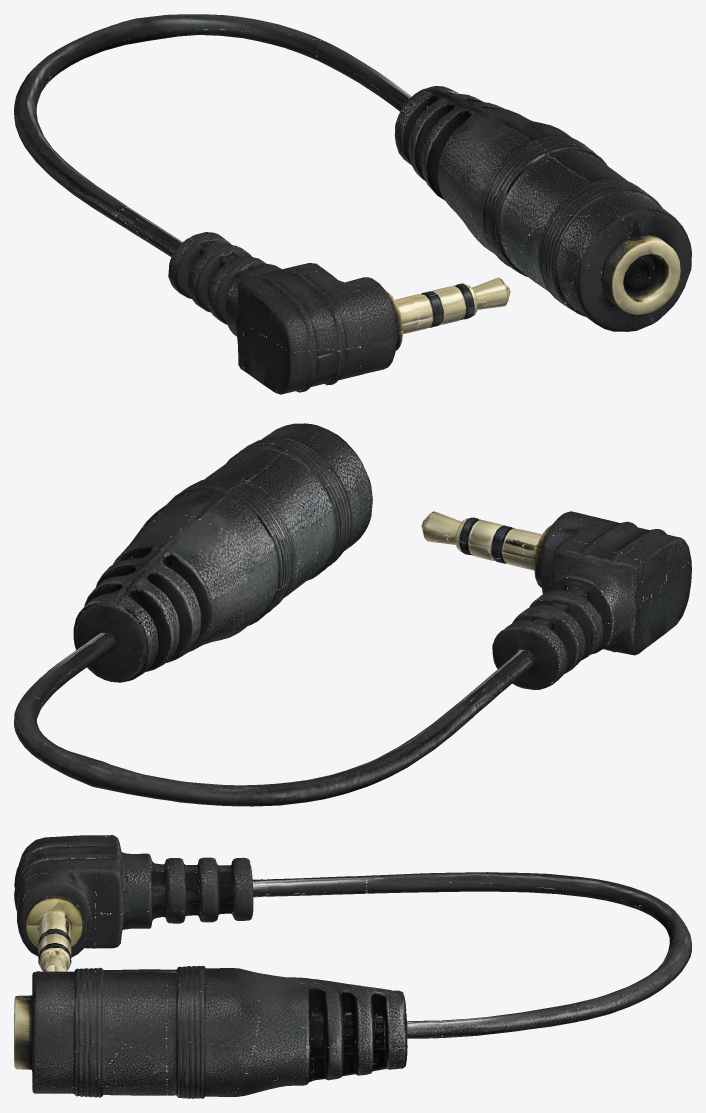
Rendered from cable-adaptateur.glb.
3 renders of one model, top to bottom at view 1: azimuth 30°, elevation 25°; view 2: azimuth 150°, elevation 25°; view 3: azimuth 270°, elevation 25°, orthographic. The views are drawn at different scales.
Visible parts, largest first — view 1: tripo_node_4f37aa70-9299-44df-8988-dcda854cb1e8; view 2: tripo_node_4f37aa70-9299-44df-8988-dcda854cb1e8; view 3: tripo_node_4f37aa70-9299-44df-8988-dcda854cb1e8.
Boxes of the visible parts, x1,y1,x2,y2 form: tripo_node_4f37aa70-9299-44df-8988-dcda854cb1e8: (14, 14, 691, 394); tripo_node_4f37aa70-9299-44df-8988-dcda854cb1e8: (14, 423, 691, 806); tripo_node_4f37aa70-9299-44df-8988-dcda854cb1e8: (14, 835, 691, 1098).
Size of the model in its own units: 0.6363 by 0.1934 by 0.9793.
1 material, 1 textured.
